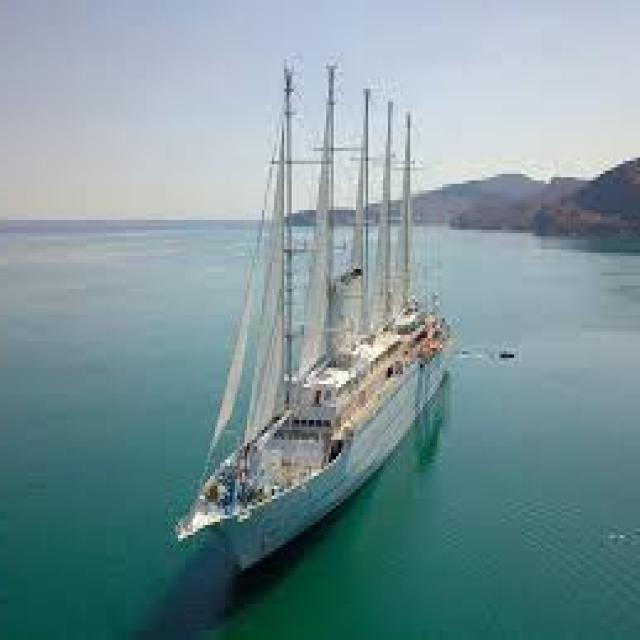Fishing Boat: (172, 30, 502, 568)
